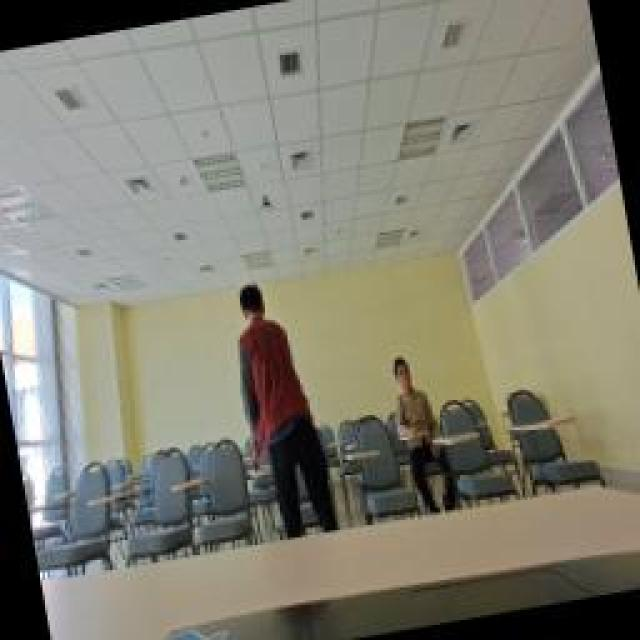study: (385, 352, 440, 442)
